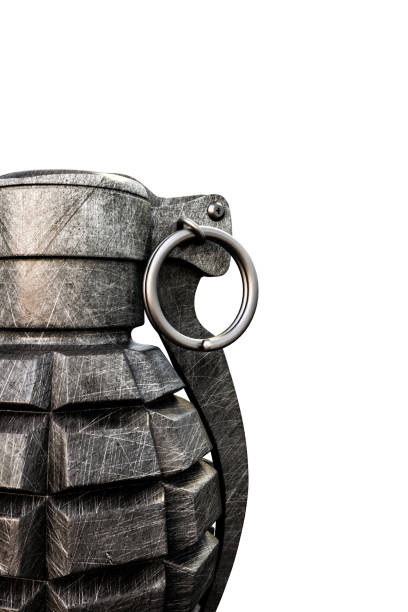e1: (1, 161, 260, 612)
